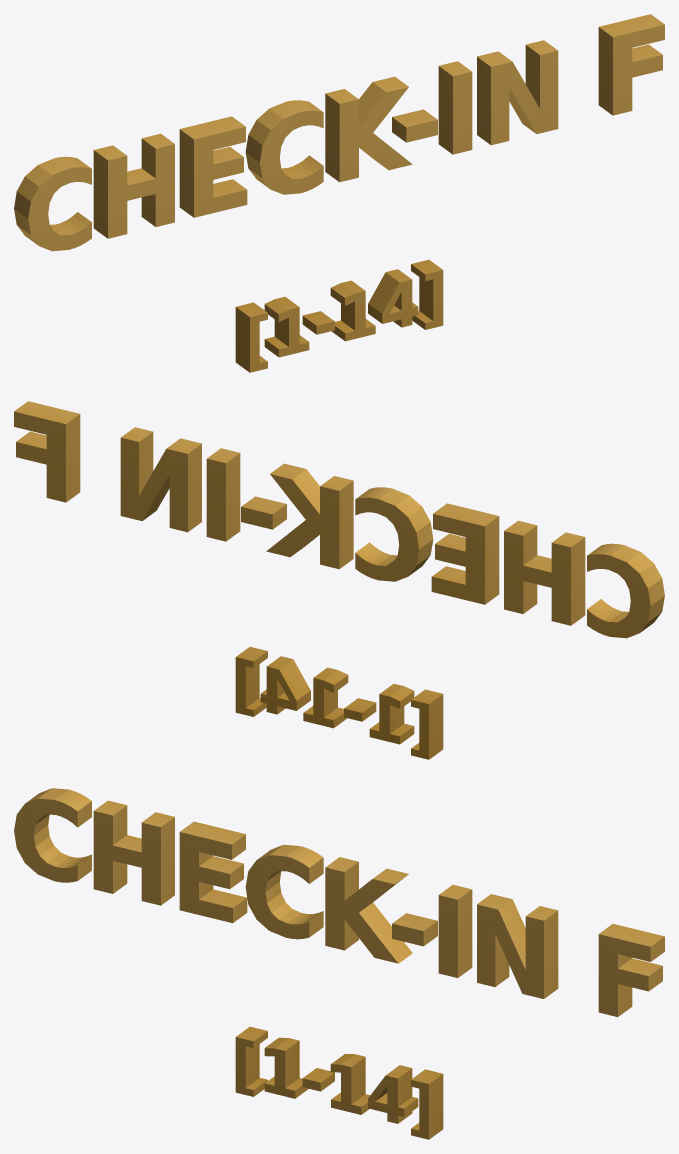
The model's file is CHECK_IN_F_1_14.glb.
3 renders of one model, top to bottom at view 1: azimuth 30°, elevation 25°; view 2: azimuth 150°, elevation 25°; view 3: azimuth 330°, elevation 25°, orthographic.
Parts seen in each view (by area): view 1: world; view 2: world; view 3: world.
Part boxes in pixels (box(x1,y1,x2,y2)): world: box(14, 14, 664, 372); world: box(14, 401, 664, 759); world: box(14, 788, 664, 1139).
Bounding box in the file's own units: 15.4 × 5.74 × 0.5965.
